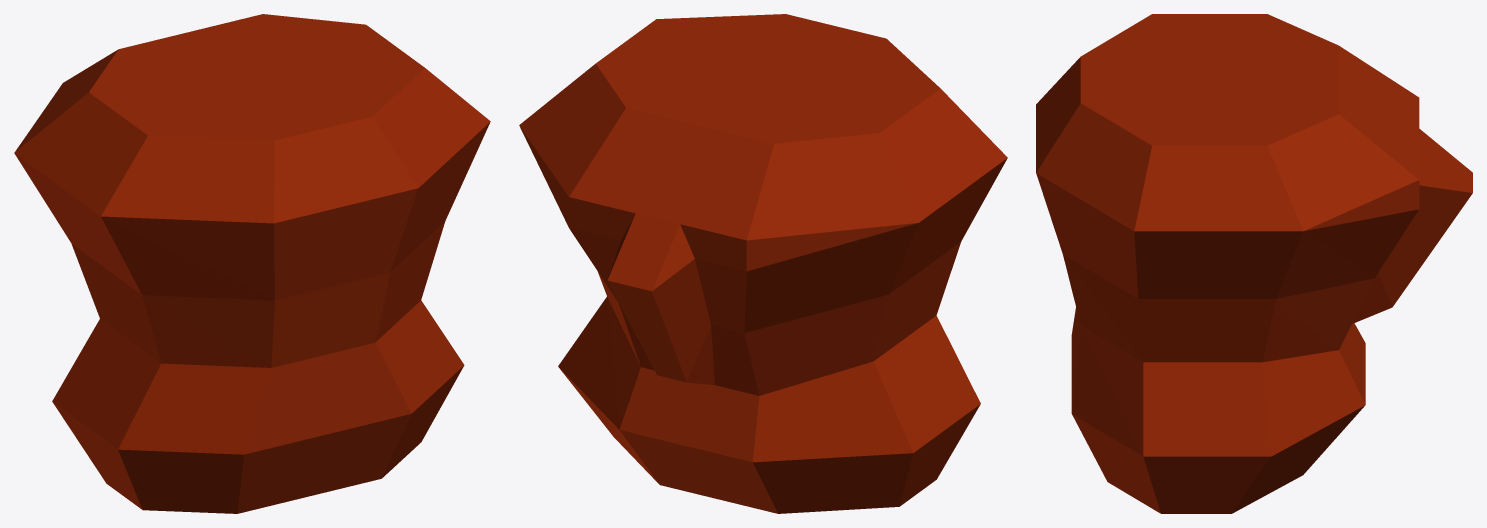
Rendered from waist.FBX.
3 renders of one model, left to right at view 1: azimuth 30°, elevation 25°; view 2: azimuth 150°, elevation 25°; view 3: azimuth 270°, elevation 25°, orthographic. The views are drawn at different scales.
Parts seen in each view (by area): view 1: VIFS001; view 2: VIFS001; view 3: VIFS001.
Boxes of the visible parts, x1,y1,x2,y2 form: VIFS001: (14, 14, 490, 513); VIFS001: (519, 14, 1007, 513); VIFS001: (1036, 14, 1472, 513).
Size of the model in its own units: 0.54 by 0.5 by 0.538.
